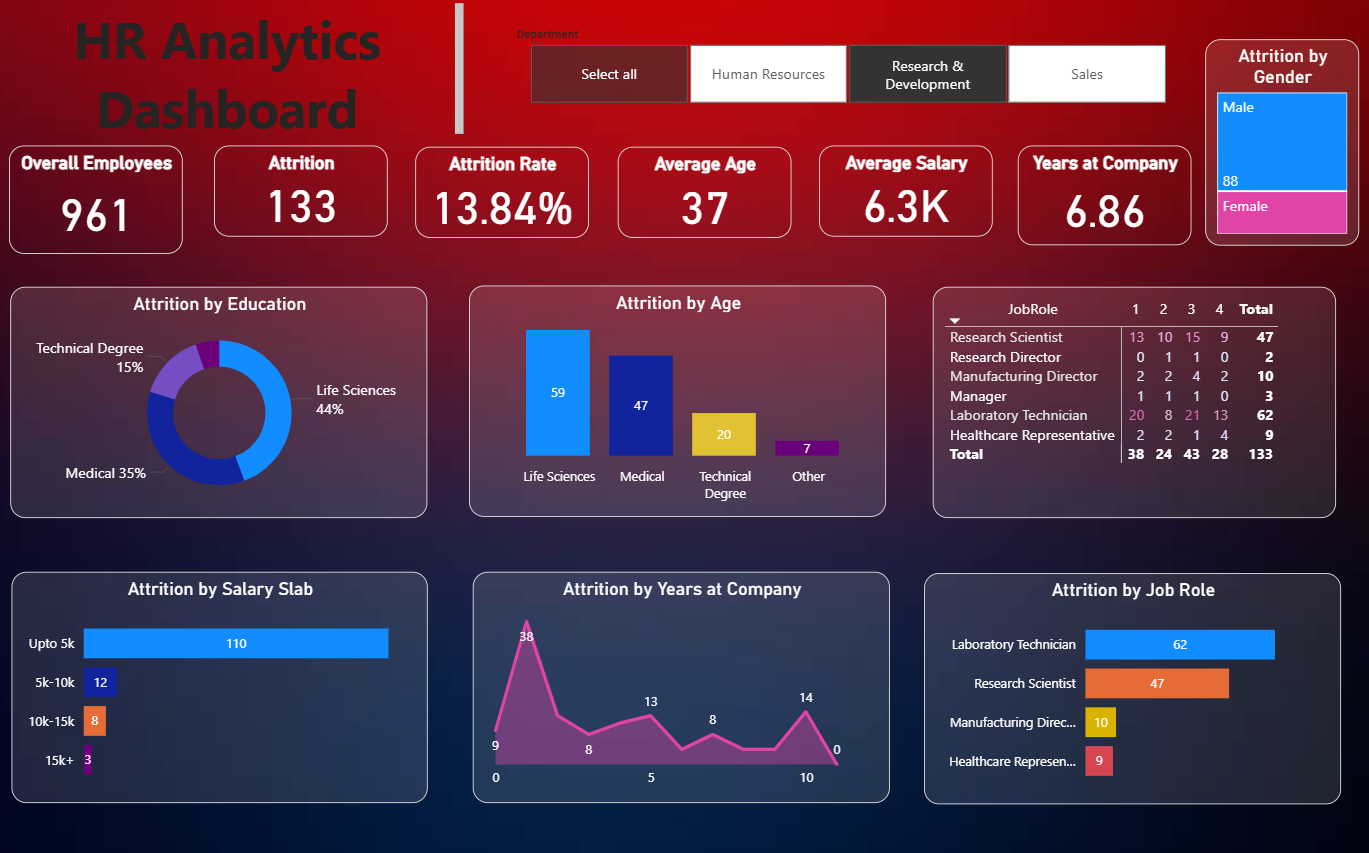

What the dashboard file says about the page in this screenshot:
{"tool":"powerbi","page":{"name":"Page 1","canvas":[1280,800],"ordinal":0},"visuals":[{"type":"card","title":"Overall Employees","fields":{"Values":["CountNonNull(HR_Analytics.EmpID)"]},"box":[14,137.2,161.6,101.2],"z":0},{"type":"card","title":"Attrition","fields":{"Values":["Sum(HR_Analytics.AttritionCount)"]},"box":[204.7,137.2,161.6,84.9],"z":1000},{"type":"card","title":"Attrition Rate","fields":{"Values":["HR_Analytics.AttritionRate"]},"box":[391.9,138.4,161.6,84.9],"z":2000},{"type":"card","title":"Average Age","fields":{"Values":["Avg(HR_Analytics.Age)"]},"box":[580.2,138.4,161.6,84.9],"z":3000},{"type":"card","title":"Average Salary","fields":{"Values":["Avg(HR_Analytics.MonthlyIncome)"]},"box":[767.4,137.2,161.6,84.9],"z":4000},{"type":"card","title":"Years at Company","fields":{"Values":["Avg(HR_Analytics.YearsAtCompany)"]},"box":[952.3,137.2,161.6,93],"z":5000},{"type":"donutChart","title":"Attrition by Education","fields":{"Category":["HR_Analytics.EducationField"],"Y":["Sum(HR_Analytics.AttritionCount)"]},"box":[15.1,268.6,388.4,215.1],"z":6000},{"type":"columnChart","title":"Attrition by Age","fields":{"Category":["HR_Analytics.EducationField"],"Y":["Sum(HR_Analytics.AttritionCount)"],"Series":["HR_Analytics.EducationField"]},"box":[441.9,267.4,388.4,215.1],"z":7000},{"type":"pivotTable","fields":{"Rows":["HR_Analytics.JobRole"],"Columns":["HR_Analytics.JobSatisfaction"],"Values":["Sum(HR_Analytics.AttritionCount)"]},"box":[873.3,268.6,375.6,215.1],"z":8000},{"type":"barChart","title":"Attrition by Salary Slab","fields":{"Category":["HR_Analytics.SalarySlab"],"Y":["Sum(HR_Analytics.AttritionCount)"],"Series":["HR_Analytics.SalarySlab"]},"box":[16.3,533.7,387.2,215.1],"z":9000},{"type":"barChart","title":"Attrition by Job Role","fields":{"Category":["HR_Analytics.JobRole"],"Y":["Sum(HR_Analytics.AttritionCount)"],"Series":["HR_Analytics.JobRole"]},"box":[865.1,534.9,388.4,215.1],"z":10000},{"type":"areaChart","title":"Attrition by Years at Company","fields":{"Category":["HR_Analytics.YearsAtCompany"],"Y":["Sum(HR_Analytics.AttritionCount)"]},"box":[445.4,533.7,388.4,215.1],"z":11000},{"type":"treemap","title":"Attrition by Gender","fields":{"Group":["HR_Analytics.Gender"],"Values":["Sum(HR_Analytics.AttritionCount)"]},"box":[1126.7,38.4,143,191.9],"z":12000},{"type":"slicer","fields":{"Values":["HR_Analytics.Department"]},"box":[473.3,22.1,640.7,82.6],"z":13000},{"type":"textbox","box":[0,0,441.9,134.9],"z":14000}]}

Visuals, with their boxes in screenshot pixels (x1, y1, x2, y2), scaled from the page's 1280x800 canvas onto the 1369x853 screenshot:
"Overall Employees" card: (x1=15, y1=146, x2=188, y2=254)
"Attrition" card: (x1=219, y1=146, x2=392, y2=237)
"Attrition Rate" card: (x1=419, y1=148, x2=592, y2=238)
"Average Age" card: (x1=621, y1=148, x2=793, y2=238)
"Average Salary" card: (x1=821, y1=146, x2=994, y2=237)
"Years at Company" card: (x1=1019, y1=146, x2=1191, y2=245)
"Attrition by Education" donutChart: (x1=16, y1=286, x2=432, y2=516)
"Attrition by Age" columnChart: (x1=473, y1=285, x2=888, y2=514)
pivotTable - HR_Analytics.JobRole x HR_Analytics.JobSatisfaction: (x1=934, y1=286, x2=1336, y2=516)
"Attrition by Salary Slab" barChart: (x1=17, y1=569, x2=432, y2=798)
"Attrition by Job Role" barChart: (x1=925, y1=570, x2=1341, y2=800)
"Attrition by Years at Company" areaChart: (x1=476, y1=569, x2=892, y2=798)
"Attrition by Gender" treemap: (x1=1205, y1=41, x2=1358, y2=246)
slicer - HR_Analytics.Department: (x1=506, y1=24, x2=1191, y2=112)
textbox: (x1=0, y1=0, x2=473, y2=144)
